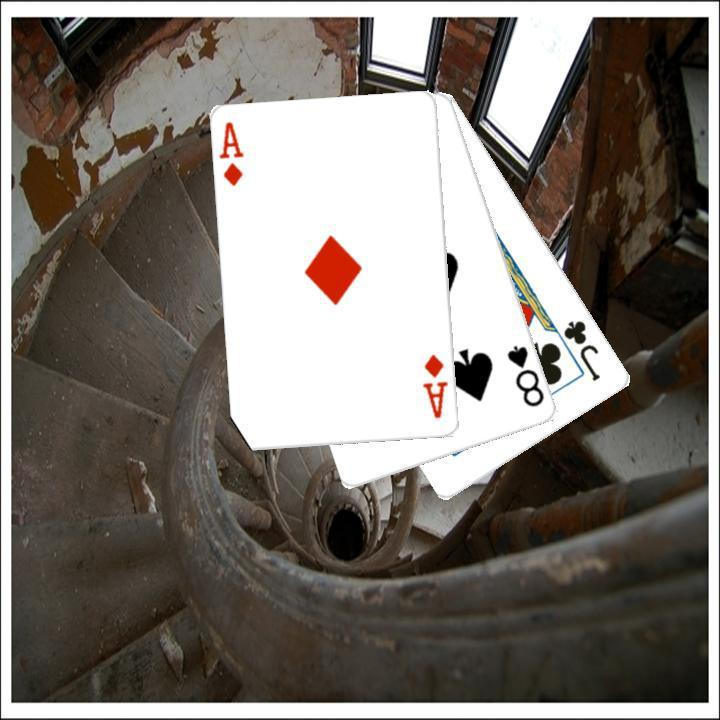8: (503, 341, 547, 409)
A: (419, 350, 450, 421), (216, 118, 247, 188)
J: (559, 316, 603, 383)
